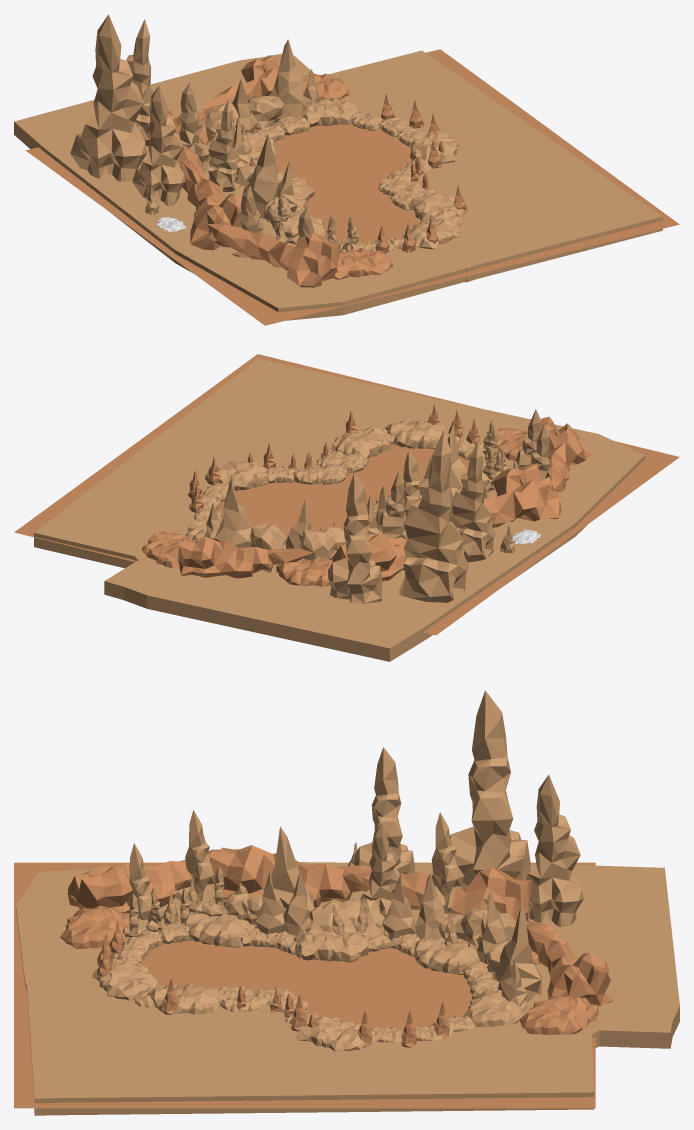
Rendered from 1map (2).fbx.
The picture shows the model from 3 angles, top to bottom: view 1: azimuth 30°, elevation 25°; view 2: azimuth 150°, elevation 25°; view 3: azimuth 270°, elevation 25°; orthographic projection. The views are drawn at different scales.
Visible parts, largest first — view 1: BézierCurve.001, BézierCurve, Plane, Cube.023, Cube.028, Cube.027, Cube.025, Cube.013, Cube.024, Cube.029, высокий камень.007, высокий камень.005 (+16 smaller); view 2: BézierCurve.001, BézierCurve, Plane, Cube.023, Cube.024, Cube.029, Cube.025, Cube.027, Cube.028, Cube.026, высокий камень.007, низкий камень.017 (+13 smaller); view 3: BézierCurve.001, Plane, BézierCurve, Cube.023, Cube.024, Cube.025, Cube.028, Cube.026, Cube.029, Cube.027, низкий камень.029, низкий камень.027 (+22 smaller).
Part boxes in pixels (bbox=[...]): BézierCurve.001: bbox=[328, 50, 662, 282]; BézierCurve: bbox=[14, 53, 471, 320]; Plane: bbox=[26, 49, 679, 325]; Cube.023: bbox=[70, 14, 147, 181]; Cube.028: bbox=[207, 224, 341, 287]; Cube.027: bbox=[132, 86, 185, 206]; Cube.025: bbox=[180, 159, 241, 250]; Cube.013: bbox=[208, 98, 241, 191]; Cube.024: bbox=[126, 19, 153, 146]; Cube.029: bbox=[201, 55, 278, 112]; высокий камень.007: bbox=[269, 39, 305, 120]; высокий камень.005: bbox=[242, 134, 279, 218]; BézierCurve.001: bbox=[34, 358, 459, 568]; BézierCurve: bbox=[104, 404, 644, 661]; Plane: bbox=[14, 354, 679, 635]; Cube.023: bbox=[399, 429, 468, 602]; Cube.024: bbox=[328, 473, 382, 603]; Cube.029: bbox=[178, 536, 313, 578]; Cube.025: bbox=[452, 463, 561, 527]; Cube.027: bbox=[452, 439, 495, 562]; Cube.028: bbox=[540, 416, 592, 491]; Cube.026: bbox=[332, 531, 407, 580]; высокий камень.007: bbox=[215, 476, 251, 547]; низкий камень.017: bbox=[385, 419, 446, 448]; BézierCurve.001: bbox=[26, 979, 594, 1115]; Plane: bbox=[14, 862, 595, 1108]; BézierCurve: bbox=[16, 862, 679, 1048]; Cube.023: bbox=[450, 690, 530, 890]; Cube.024: bbox=[525, 775, 583, 926]; Cube.025: bbox=[210, 845, 403, 907]; Cube.028: bbox=[67, 849, 220, 913]; Cube.026: bbox=[337, 865, 531, 921]; Cube.029: bbox=[527, 920, 612, 1005]; Cube.027: bbox=[354, 747, 414, 873]; низкий камень.029: bbox=[520, 994, 598, 1035]; низкий камень.027: bbox=[60, 906, 129, 948].
Bounding box in the file's own units: 19333 × 9219 × 22131.
